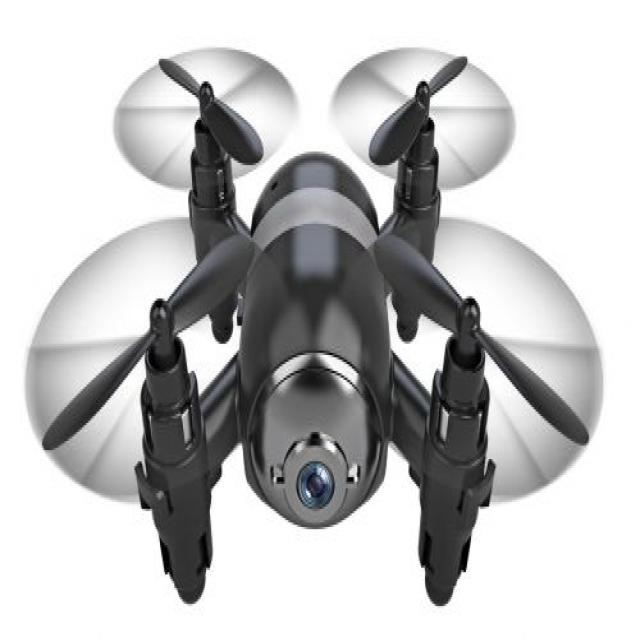drones: (21, 31, 608, 608)
